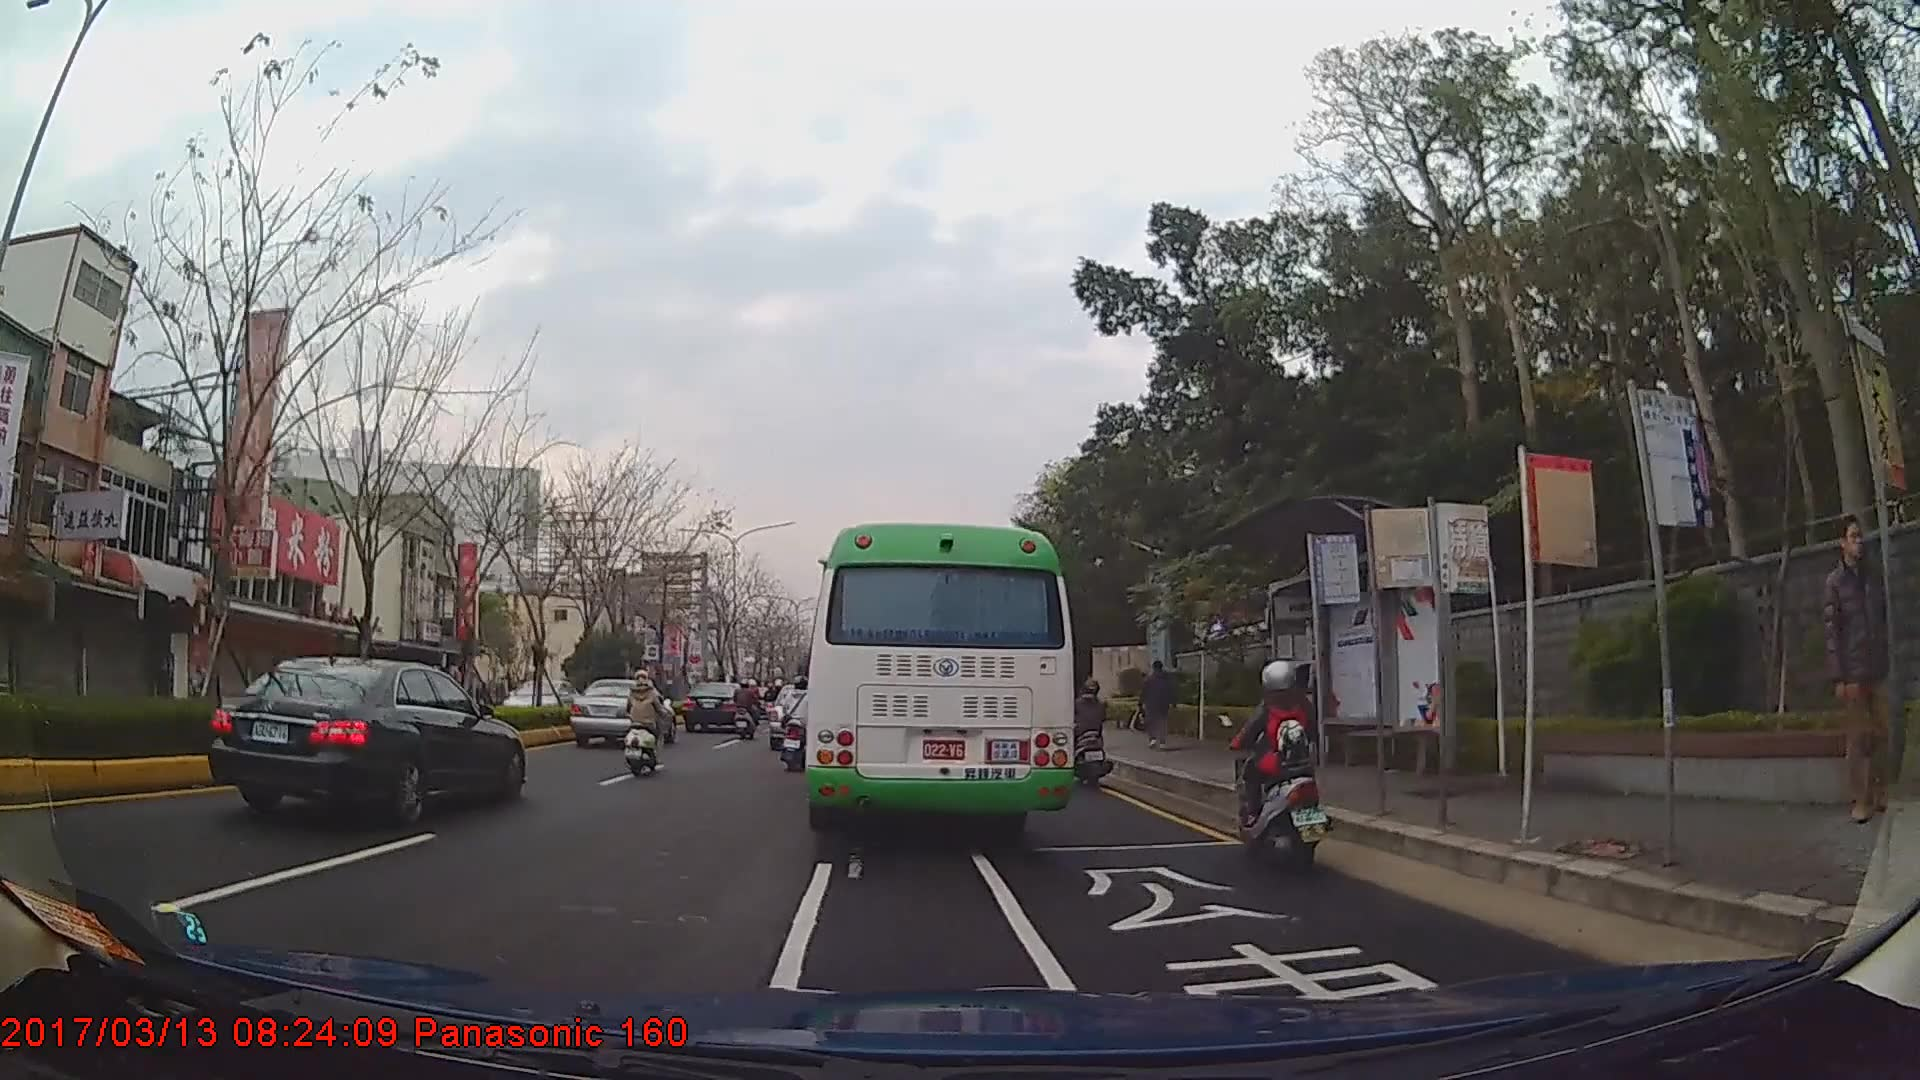pedestrian: (1822, 515, 1903, 825), (1276, 646, 1333, 769), (1135, 657, 1178, 749)
rider: (1230, 659, 1335, 869), (1068, 675, 1117, 788), (624, 668, 671, 776), (782, 674, 820, 773), (734, 677, 760, 738)
vehicle: (803, 518, 1077, 835), (202, 658, 523, 826), (569, 678, 677, 748), (496, 674, 583, 724), (683, 677, 750, 731)
